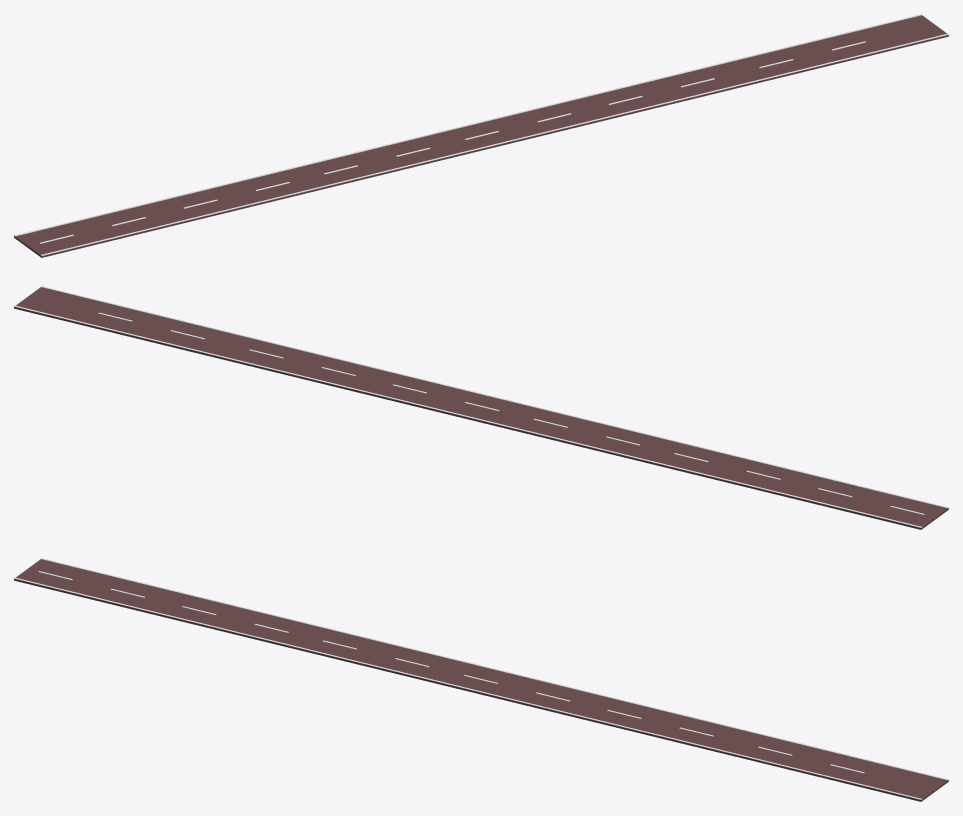
The model's file is chedao_02.FBX.
The picture shows the model from 3 angles, top to bottom: view 1: azimuth 30°, elevation 25°; view 2: azimuth 150°, elevation 25°; view 3: azimuth 330°, elevation 25°; orthographic projection.
Visible parts, largest first — view 1: chedao_02; view 2: chedao_02; view 3: chedao_02.
Part boxes in pixels (bbox=[...]): chedao_02: bbox=[14, 14, 948, 257]; chedao_02: bbox=[14, 286, 948, 529]; chedao_02: bbox=[14, 558, 948, 801].
Size of the model in its own units: 19138 by 46.66 by 1013.
